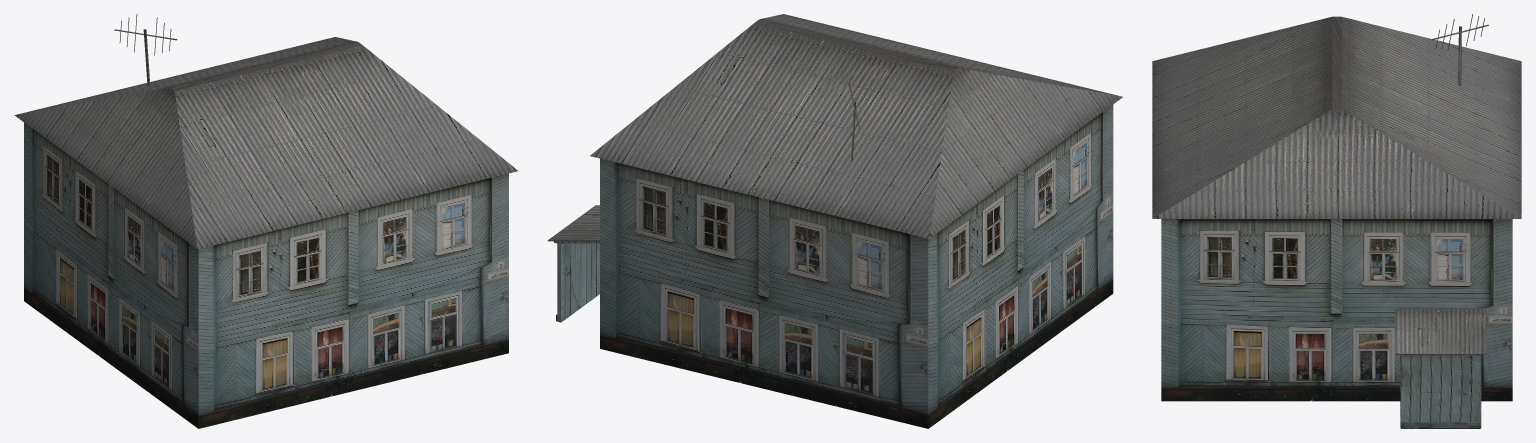
The model's file is ru_small_house_1.obj.
3 renders of one model, left to right at view 1: azimuth 30°, elevation 25°; view 2: azimuth 150°, elevation 25°; view 3: azimuth 270°, elevation 25°, orthographic. The views are drawn at different scales.
Parts seen in each view (by area): view 1: ru_small_house_1; view 2: ru_small_house_1; view 3: ru_small_house_1.
Part boxes in pixels (x1=…): ru_small_house_1: x1=14, y1=14, x2=517, y2=428; ru_small_house_1: x1=547, y1=14, x2=1122, y2=428; ru_small_house_1: x1=1152, y1=14, x2=1521, y2=428.
Bounding box in the file's own units: 12.1 × 8.55 × 10.16.
Materials: 1 (1 with a texture image).
